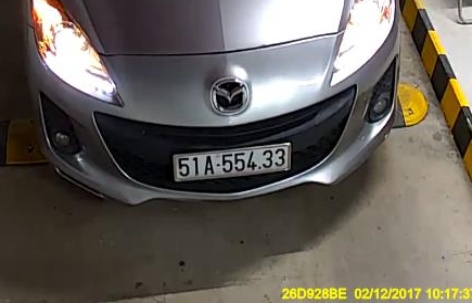plate: (168, 143, 294, 183)
